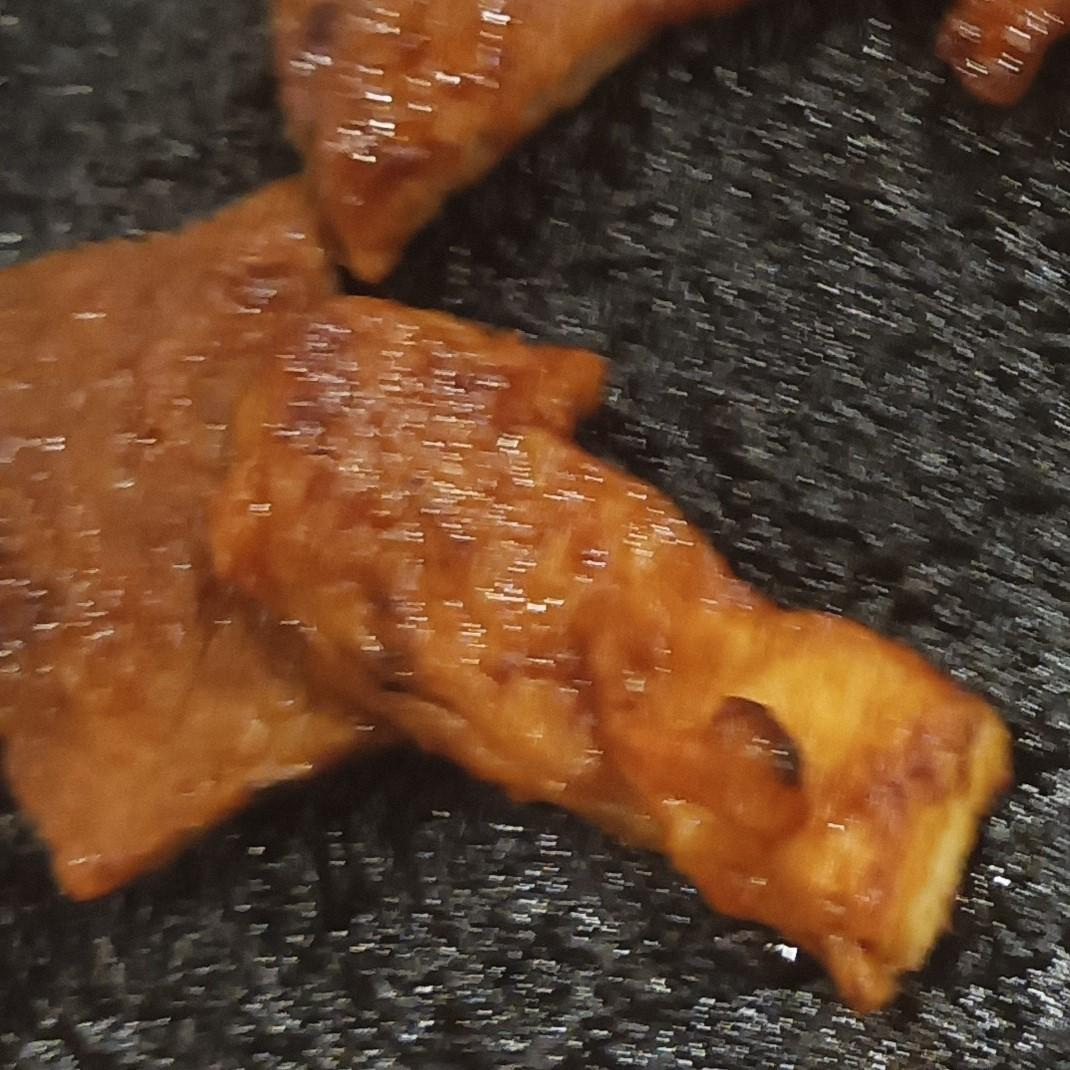Well-Cooked: (0, 0, 1015, 1016)
